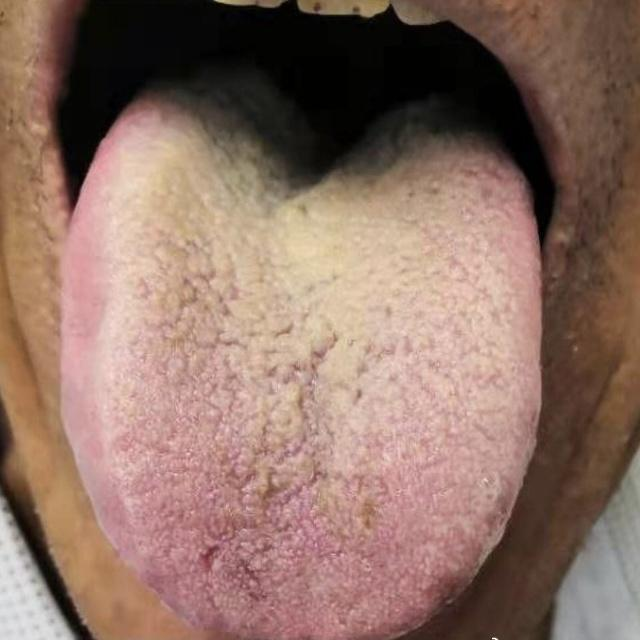baitaishe: (58, 61, 544, 640)
liewenshe: (257, 343, 333, 504), (167, 248, 234, 364)
shenquao: (246, 90, 406, 196)
